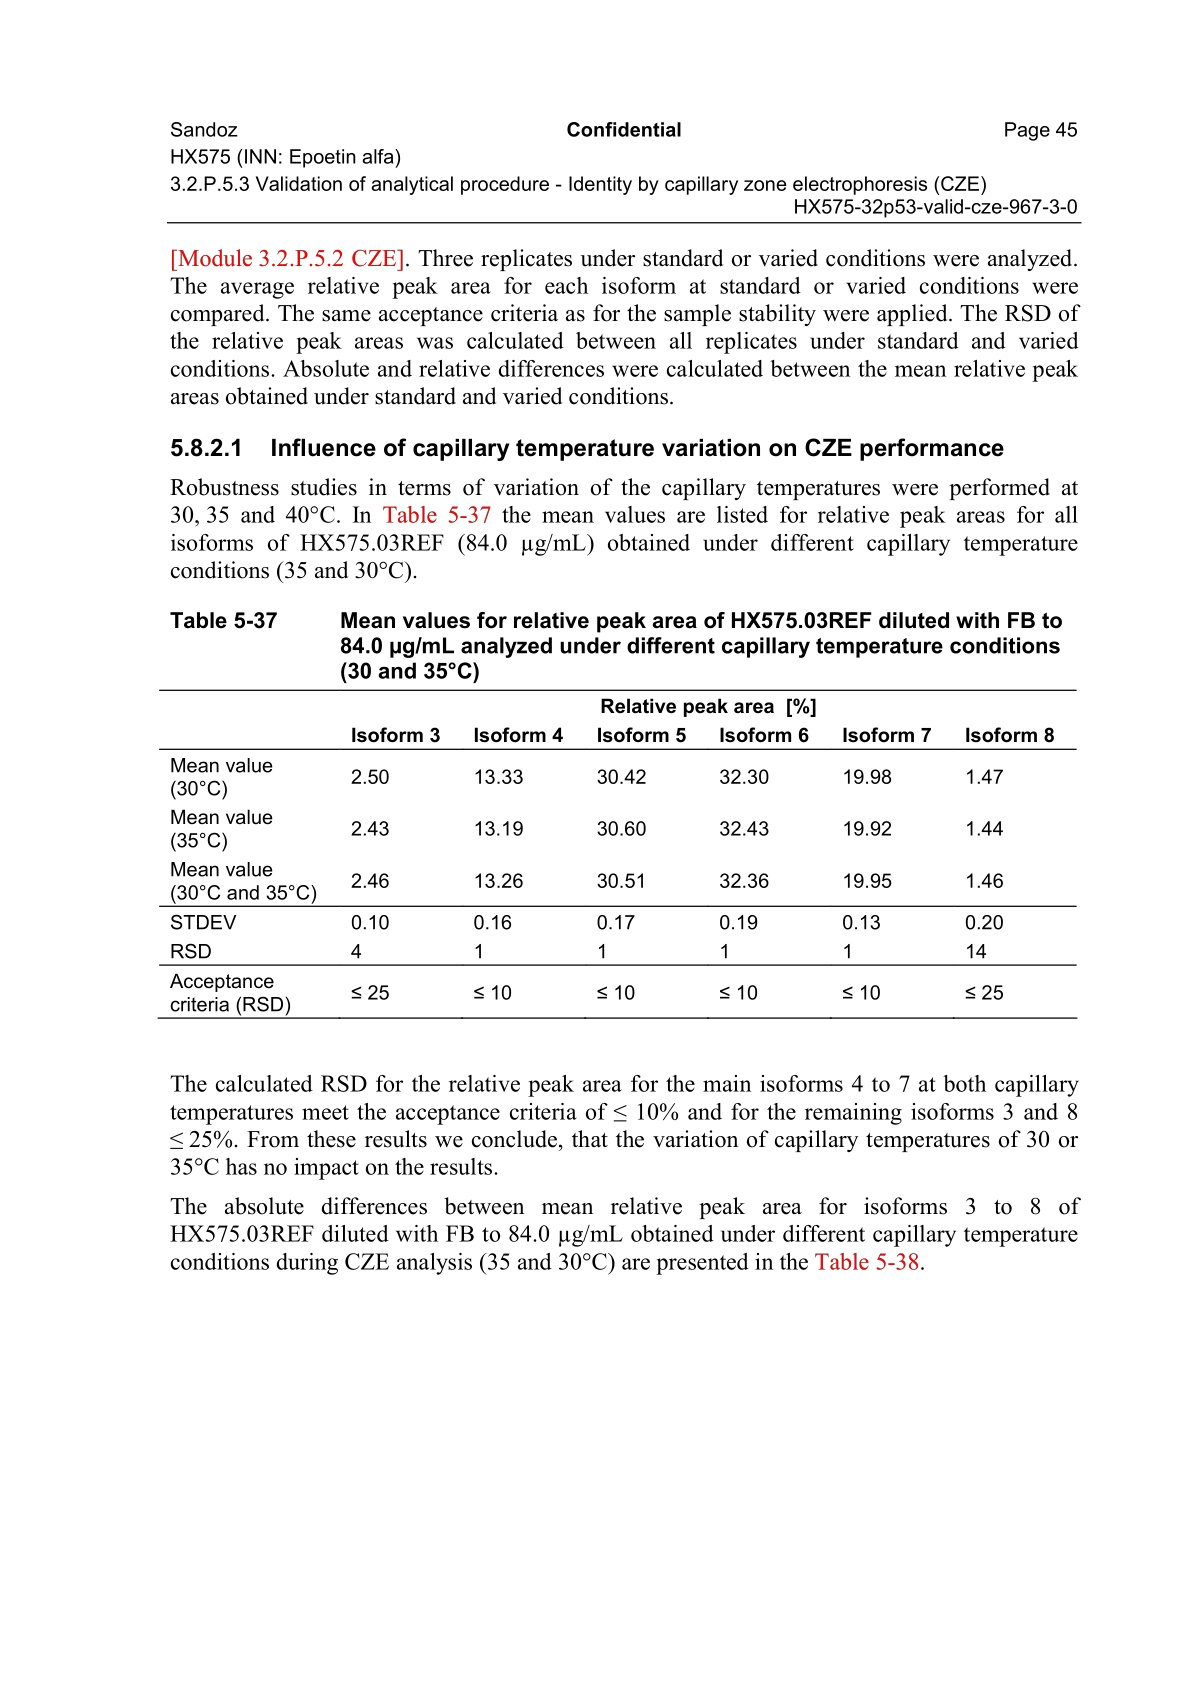partial_lined_merged_cells: (159, 688, 1079, 1020)
